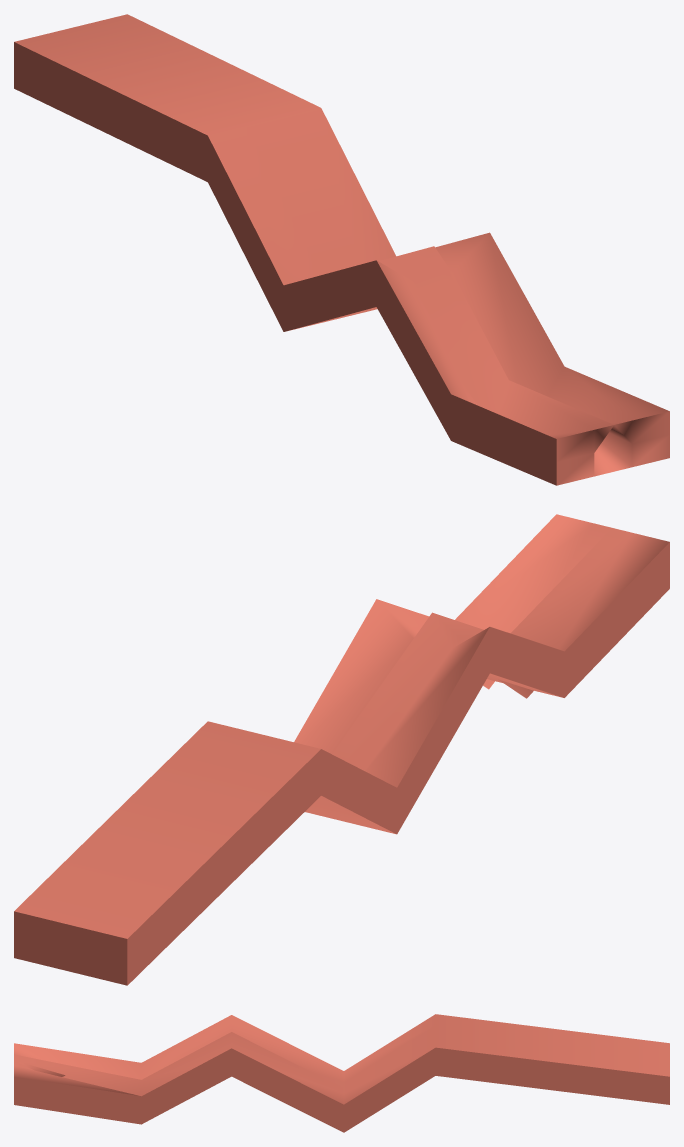
Rendered from BERO_parts.fbx.
The picture shows the model from 3 angles, top to bottom: view 1: azimuth 30°, elevation 25°; view 2: azimuth 150°, elevation 25°; view 3: azimuth 270°, elevation 25°; orthographic projection. The views are drawn at different scales.
Parts seen in each view (by area): view 1: pCube2; view 2: pCube2; view 3: pCube2.
Part boxes in pixels (box(x1,y1,x2,y2)): pCube2: box(14, 14, 669, 485); pCube2: box(14, 514, 669, 985); pCube2: box(14, 1014, 669, 1132).
Bounding box in the file's own units: 0.6411 × 0.7615 × 5.31.
